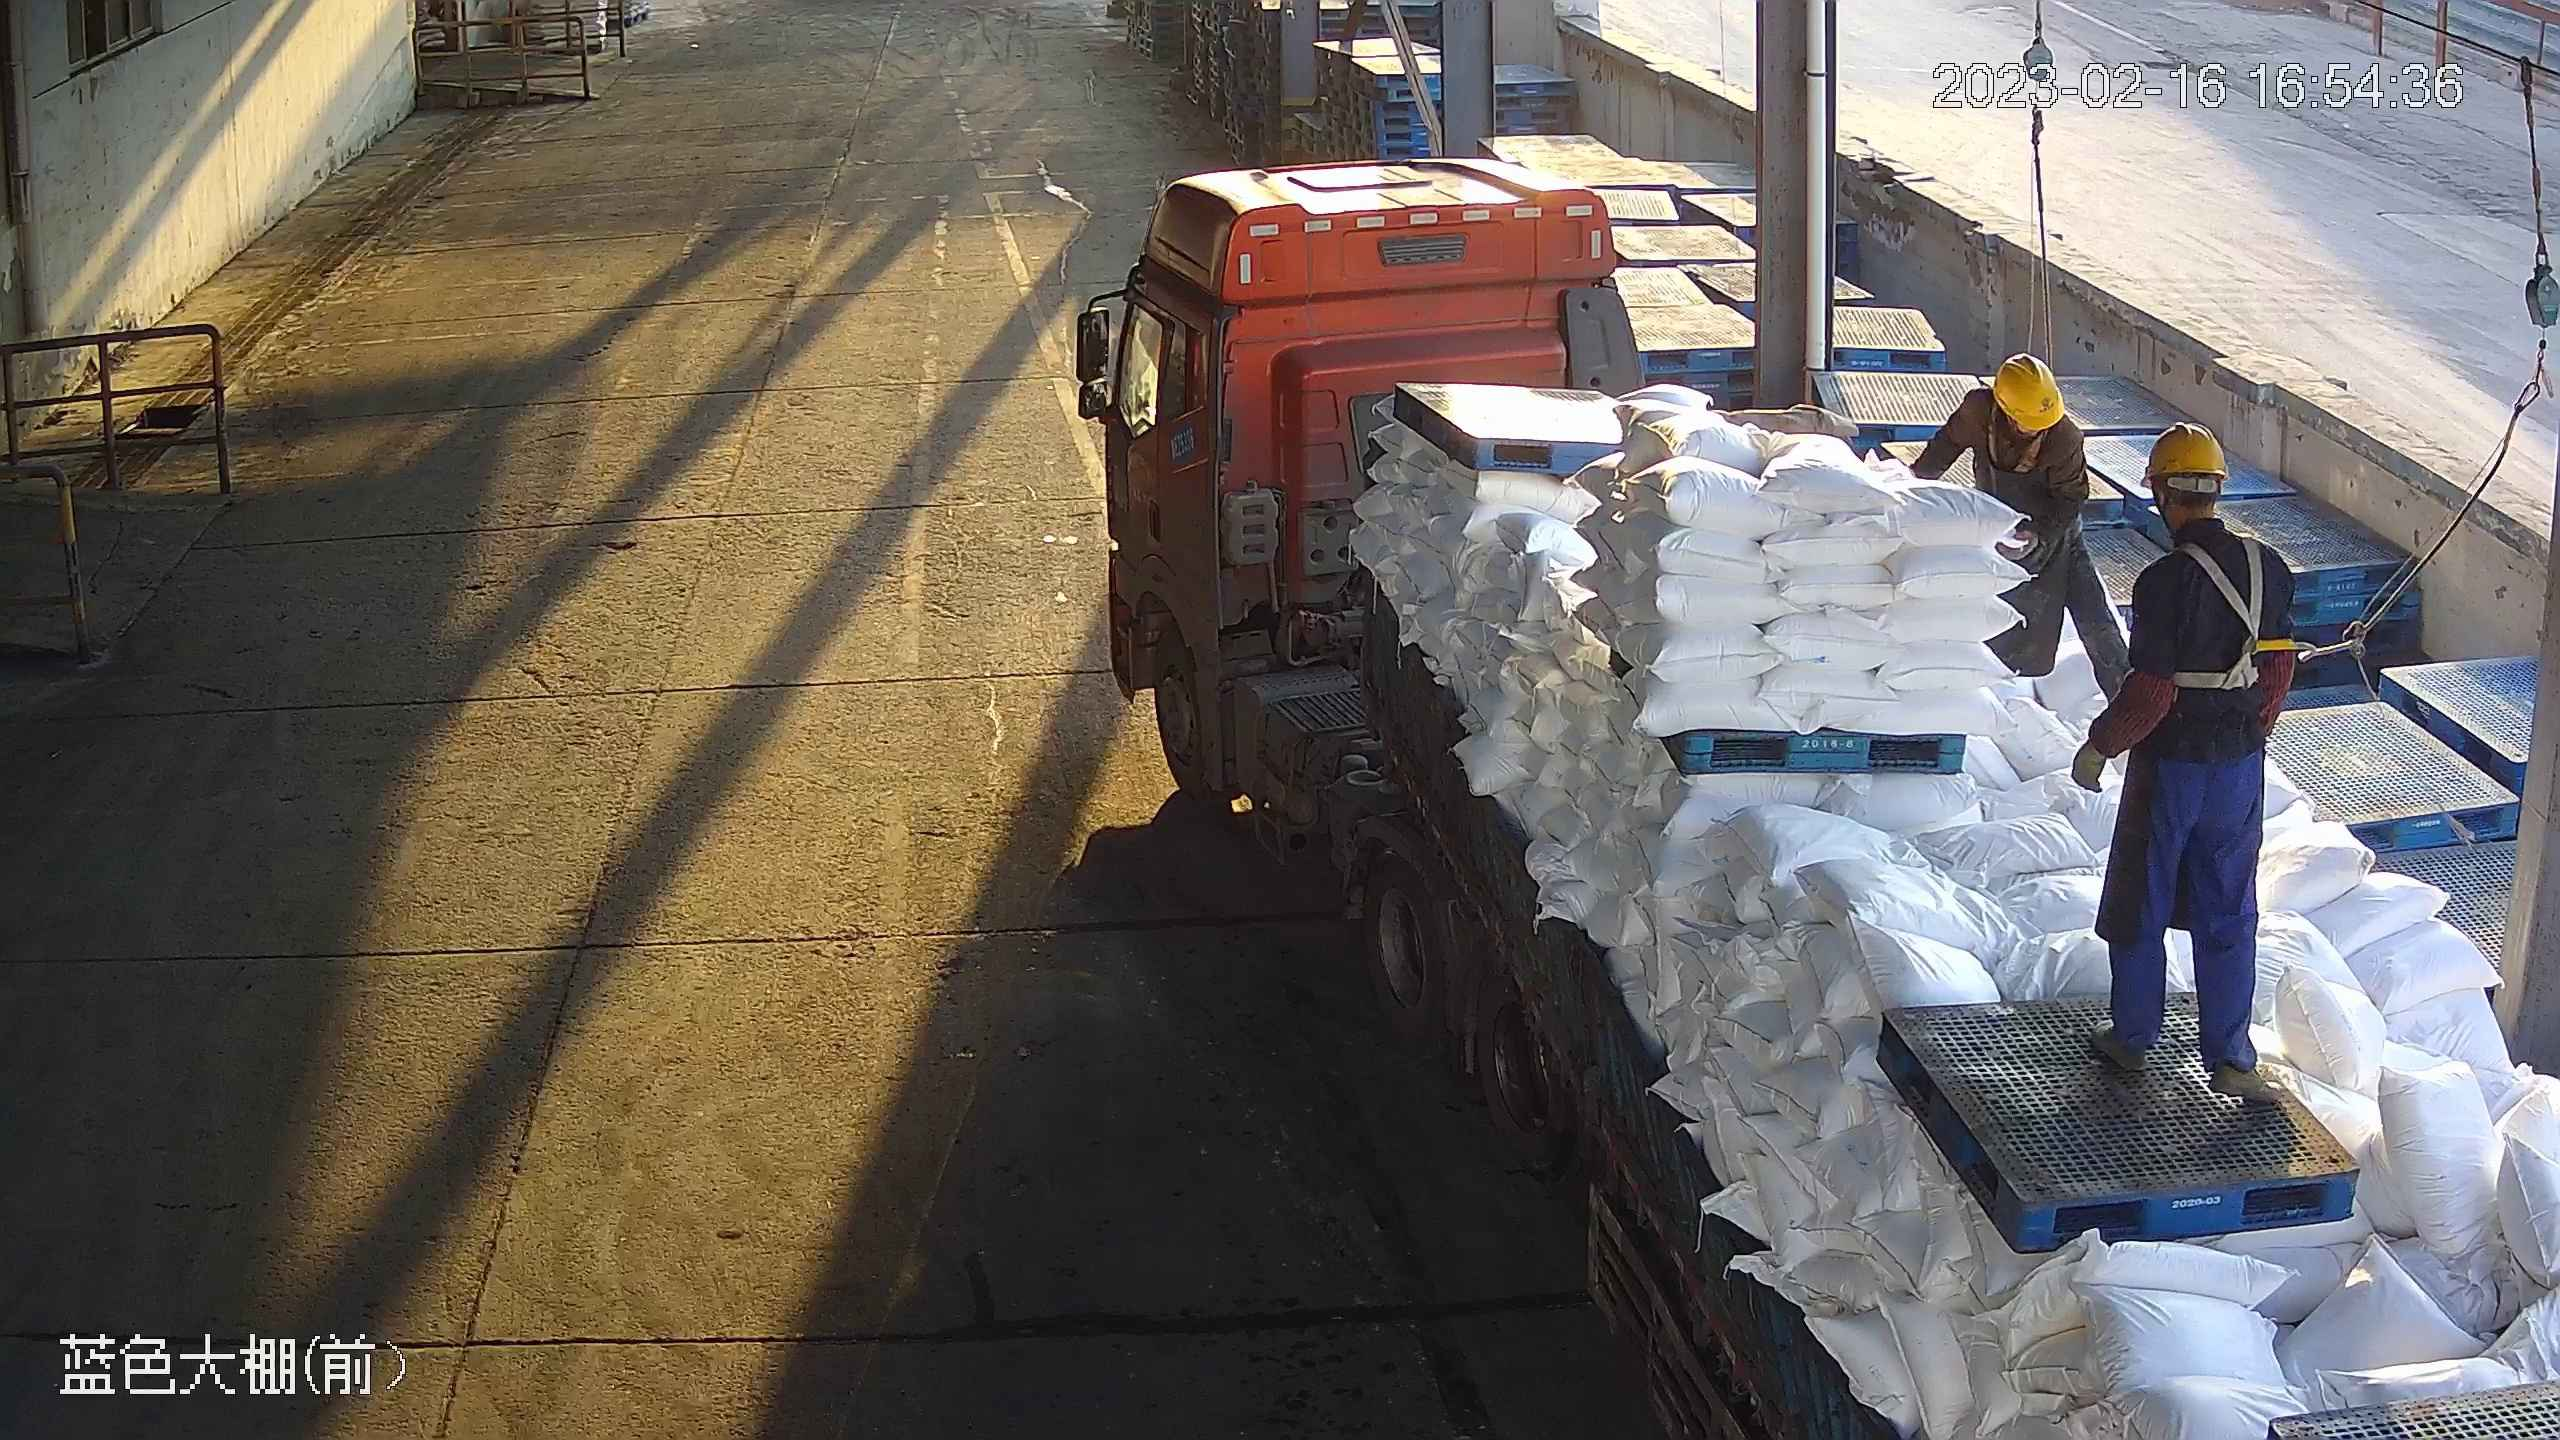belt: (2164, 525, 2297, 686), (1976, 410, 2053, 475)
head: (2113, 413, 2301, 613), (1947, 350, 2084, 493)
helmet: (2141, 412, 2226, 490), (1993, 354, 2064, 428)
people: (2072, 416, 2298, 1113), (1907, 353, 2139, 702)
truck: (1074, 144, 2560, 1440)
